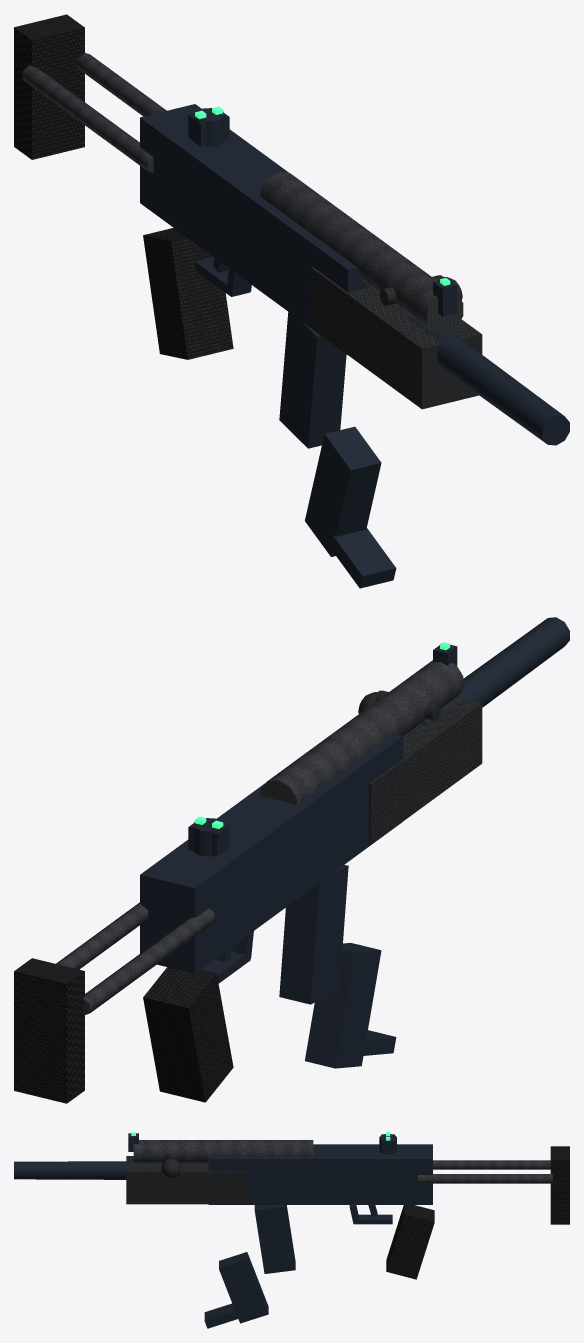
3 renders of one model, top to bottom at view 1: azimuth 30°, elevation 25°; view 2: azimuth 150°, elevation 25°; view 3: azimuth 270°, elevation 25°, orthographic. The views are drawn at different scales.
Parts seen in each view (by area): view 1: weapon_mp5, MagazineNode; view 2: weapon_mp5, MagazineNode; view 3: weapon_mp5, MagazineNode, BoltHandleNode.
Boxes of the visible parts, x1=… form: weapon_mp5: x1=14, y1=14, x2=569, y2=445; MagazineNode: x1=279, y1=312, x2=396, y2=588; weapon_mp5: x1=14, y1=617, x2=569, y2=1103; MagazineNode: x1=279, y1=865, x2=396, y2=1068; weapon_mp5: x1=14, y1=1132, x2=569, y2=1279; MagazineNode: x1=204, y1=1205, x2=295, y2=1328; BoltHandleNode: x1=161, y1=1153, x2=180, y2=1178.
Size of the model in its own units: 0.0696 by 0.2818 by 0.743.
Materials: 5 (3 with a texture image).
